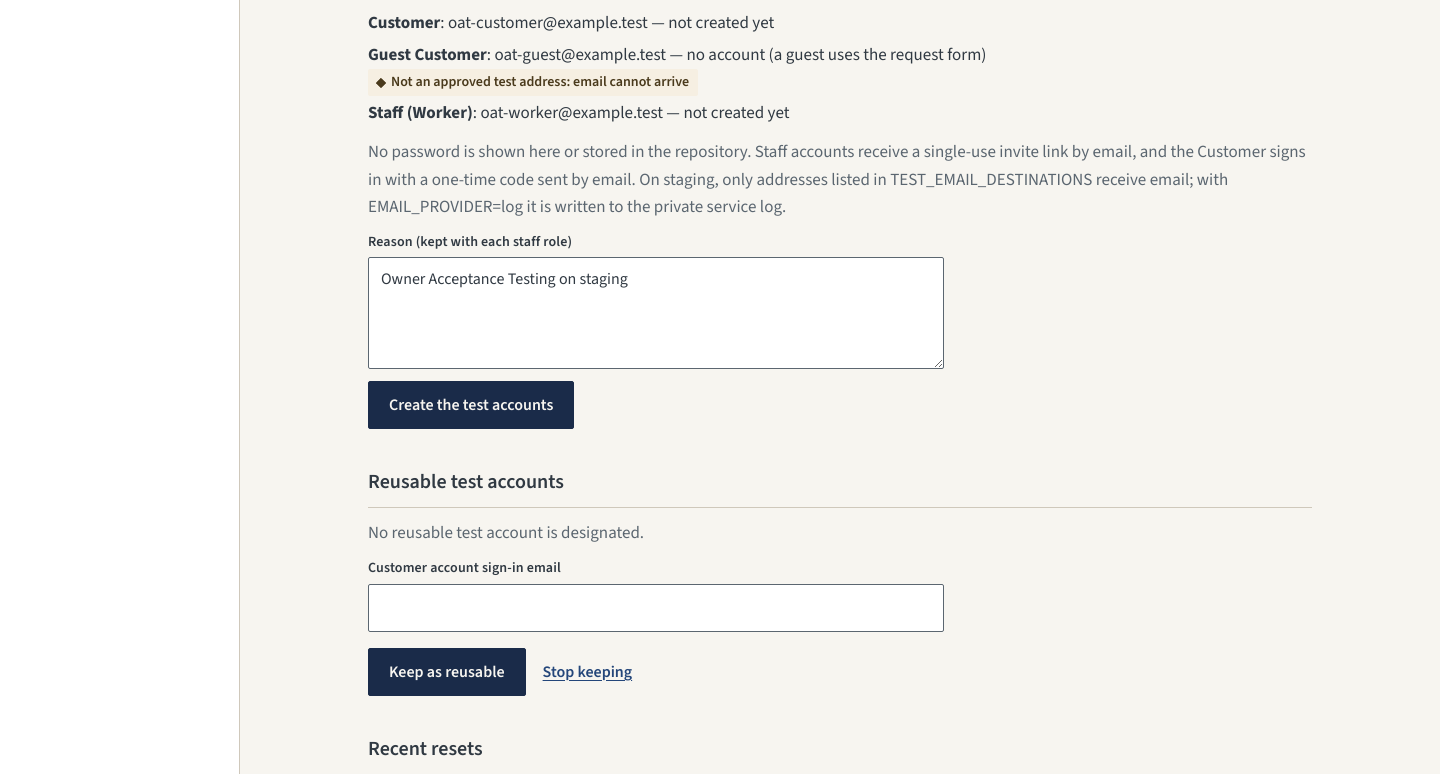
Scenario: Staging Tools on the Owner Dashboard (TSK-0141, HH-OPS-05) › [HH-OPS-06] lists the test accounts without any credential and creates them with a reason (TSK-0142)
(page scrolled)
Expected: the list item "Staff (Worker): oat-worker@example.test — not created yet" is shown, 368,100 -> 789,128
Expected: the text "Not an approved test address: email cannot arrive" is shown, 368,69 -> 698,96
Click the button "Create the test accounts" at (471, 405), box 368,381 -> 574,429
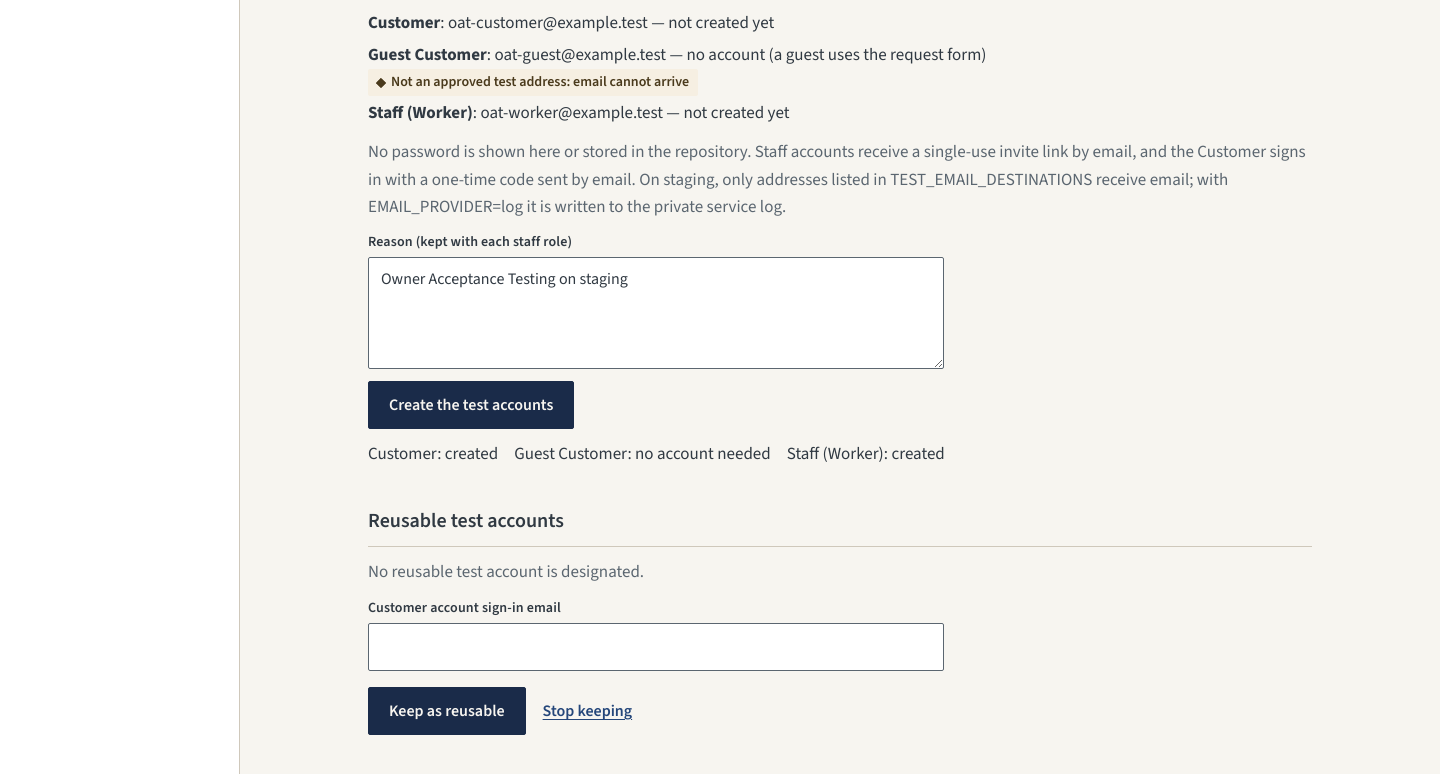
Now the list item "Staff (Worker): created" is shown, box 787,441 -> 945,468
